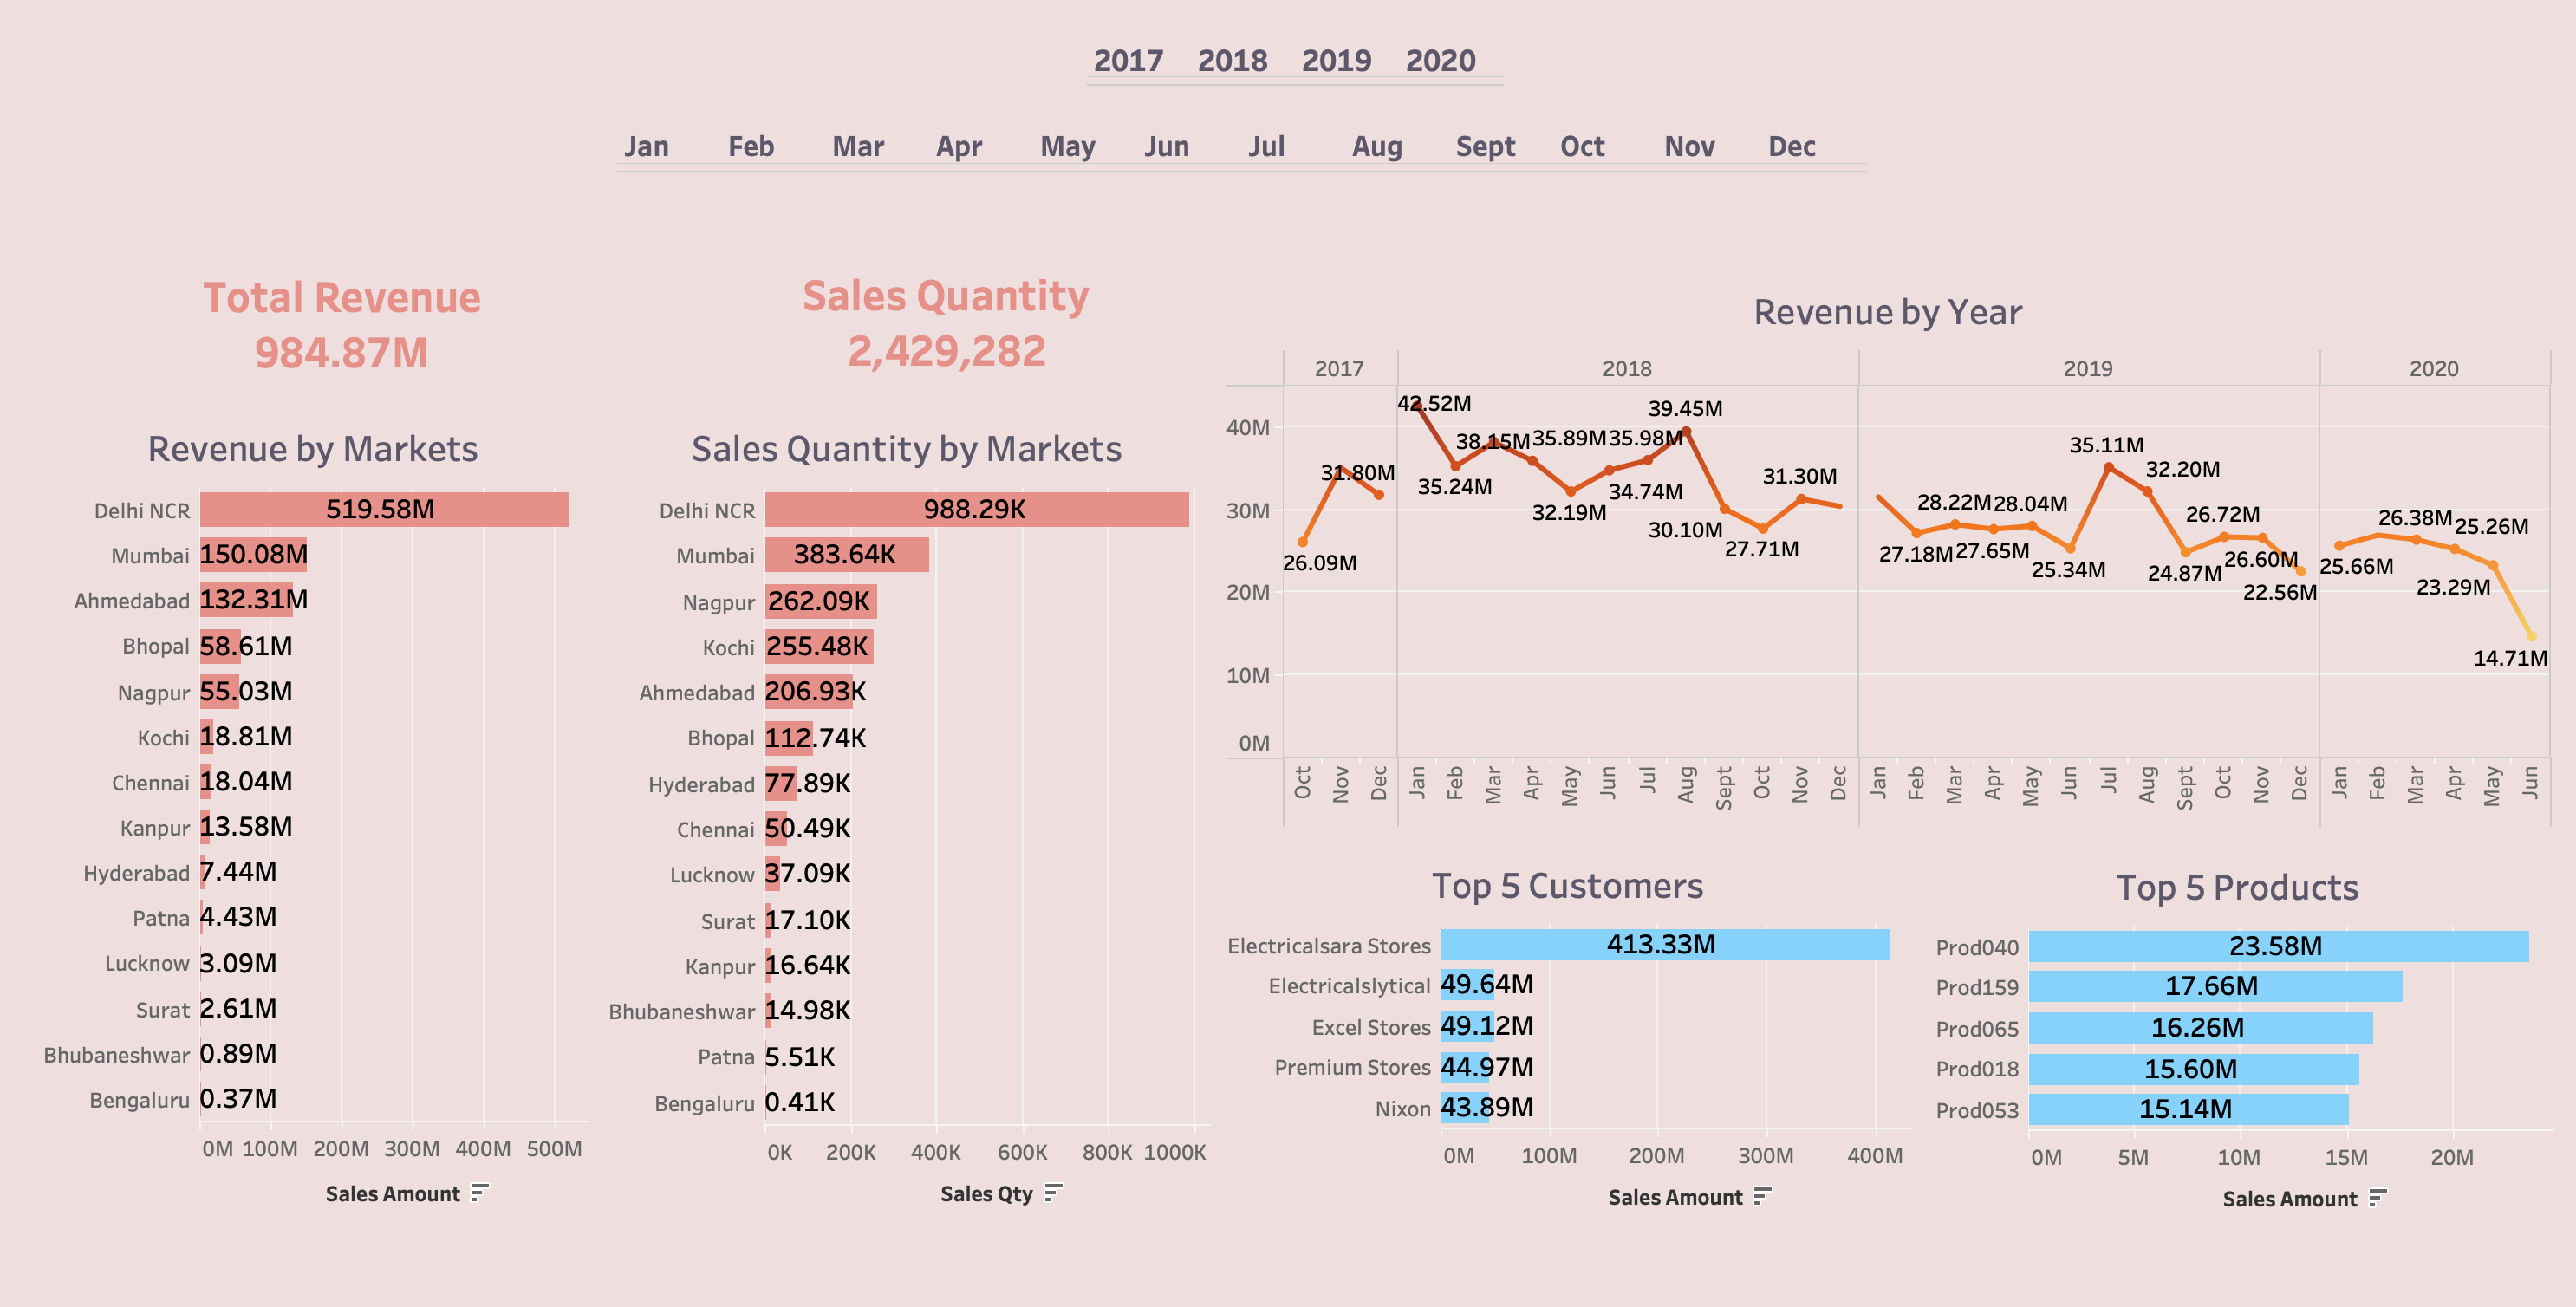

What the dashboard file says about the page in this screenshot:
{"tool":"tableau","page":{"name":"Dashboard - Revenue Analysis","canvas":[1000,1000],"units":"permille","ordinal":1},"visuals":[{"type":"worksheet","title":"Year","mark":"Automatic","cols":["cy_date"],"box":[421.9,32,189.3,96]},{"type":"worksheet","title":"Month","mark":"Automatic","cols":["cy_date"],"box":[239.6,98.4,557.2,101]},{"type":"worksheet","title":"Quantity","mark":"Automatic","box":[307.5,202.9,199.9,122]},{"type":"worksheet","title":"Revenue","mark":"Automatic","box":[72.7,204.2,168.9,96.8]},{"type":"worksheet","title":"Revenue by Year","mark":"Automatic","rows":["Calculation_6357112367826554880"],"cols":["cy_date","cy_date"],"box":[476,211.3,514.7,422.6]},{"type":"worksheet","title":"Revenue by Markets","mark":"Automatic","rows":["markets_name"],"cols":["Calculation_6357112367826554880"],"box":[15.5,316.3,212.5,618.1]},{"type":"worksheet","title":"Sales Quantity by Markets","mark":"Automatic","rows":["markets_name"],"cols":["sales_qty"],"box":[234.9,316.3,234.9,618.1]},{"type":"worksheet","title":"Top 5 Customers","mark":"Automatic","rows":["custmer_name"],"cols":["Calculation_6357112367826554880"],"box":[476,649.6,266.6,286.1]},{"type":"worksheet","title":"Top 5 Products","mark":"Automatic","rows":["product_code (products)"],"cols":["Calculation_6357112367826554880"],"box":[747.3,650.9,244.2,286.1]}]}

Visuals, with their boxes on the dashboard's canvas, which has no fixed pixel size, in thousandths of its width and height (x1, y1, x2, y2). These are canvas units, not pixel positions in the 2576x1307 screenshot, which may show the page scaled, cropped or inside an application window:
"Year" worksheet: bbox(422, 32, 611, 128)
"Month" worksheet: bbox(240, 98, 797, 199)
"Quantity" worksheet: bbox(308, 203, 507, 325)
"Revenue" worksheet: bbox(73, 204, 242, 301)
"Revenue by Year" worksheet: bbox(476, 211, 991, 634)
"Revenue by Markets" worksheet: bbox(16, 316, 228, 934)
"Sales Quantity by Markets" worksheet: bbox(235, 316, 470, 934)
"Top 5 Customers" worksheet: bbox(476, 650, 743, 936)
"Top 5 Products" worksheet: bbox(747, 651, 992, 937)
